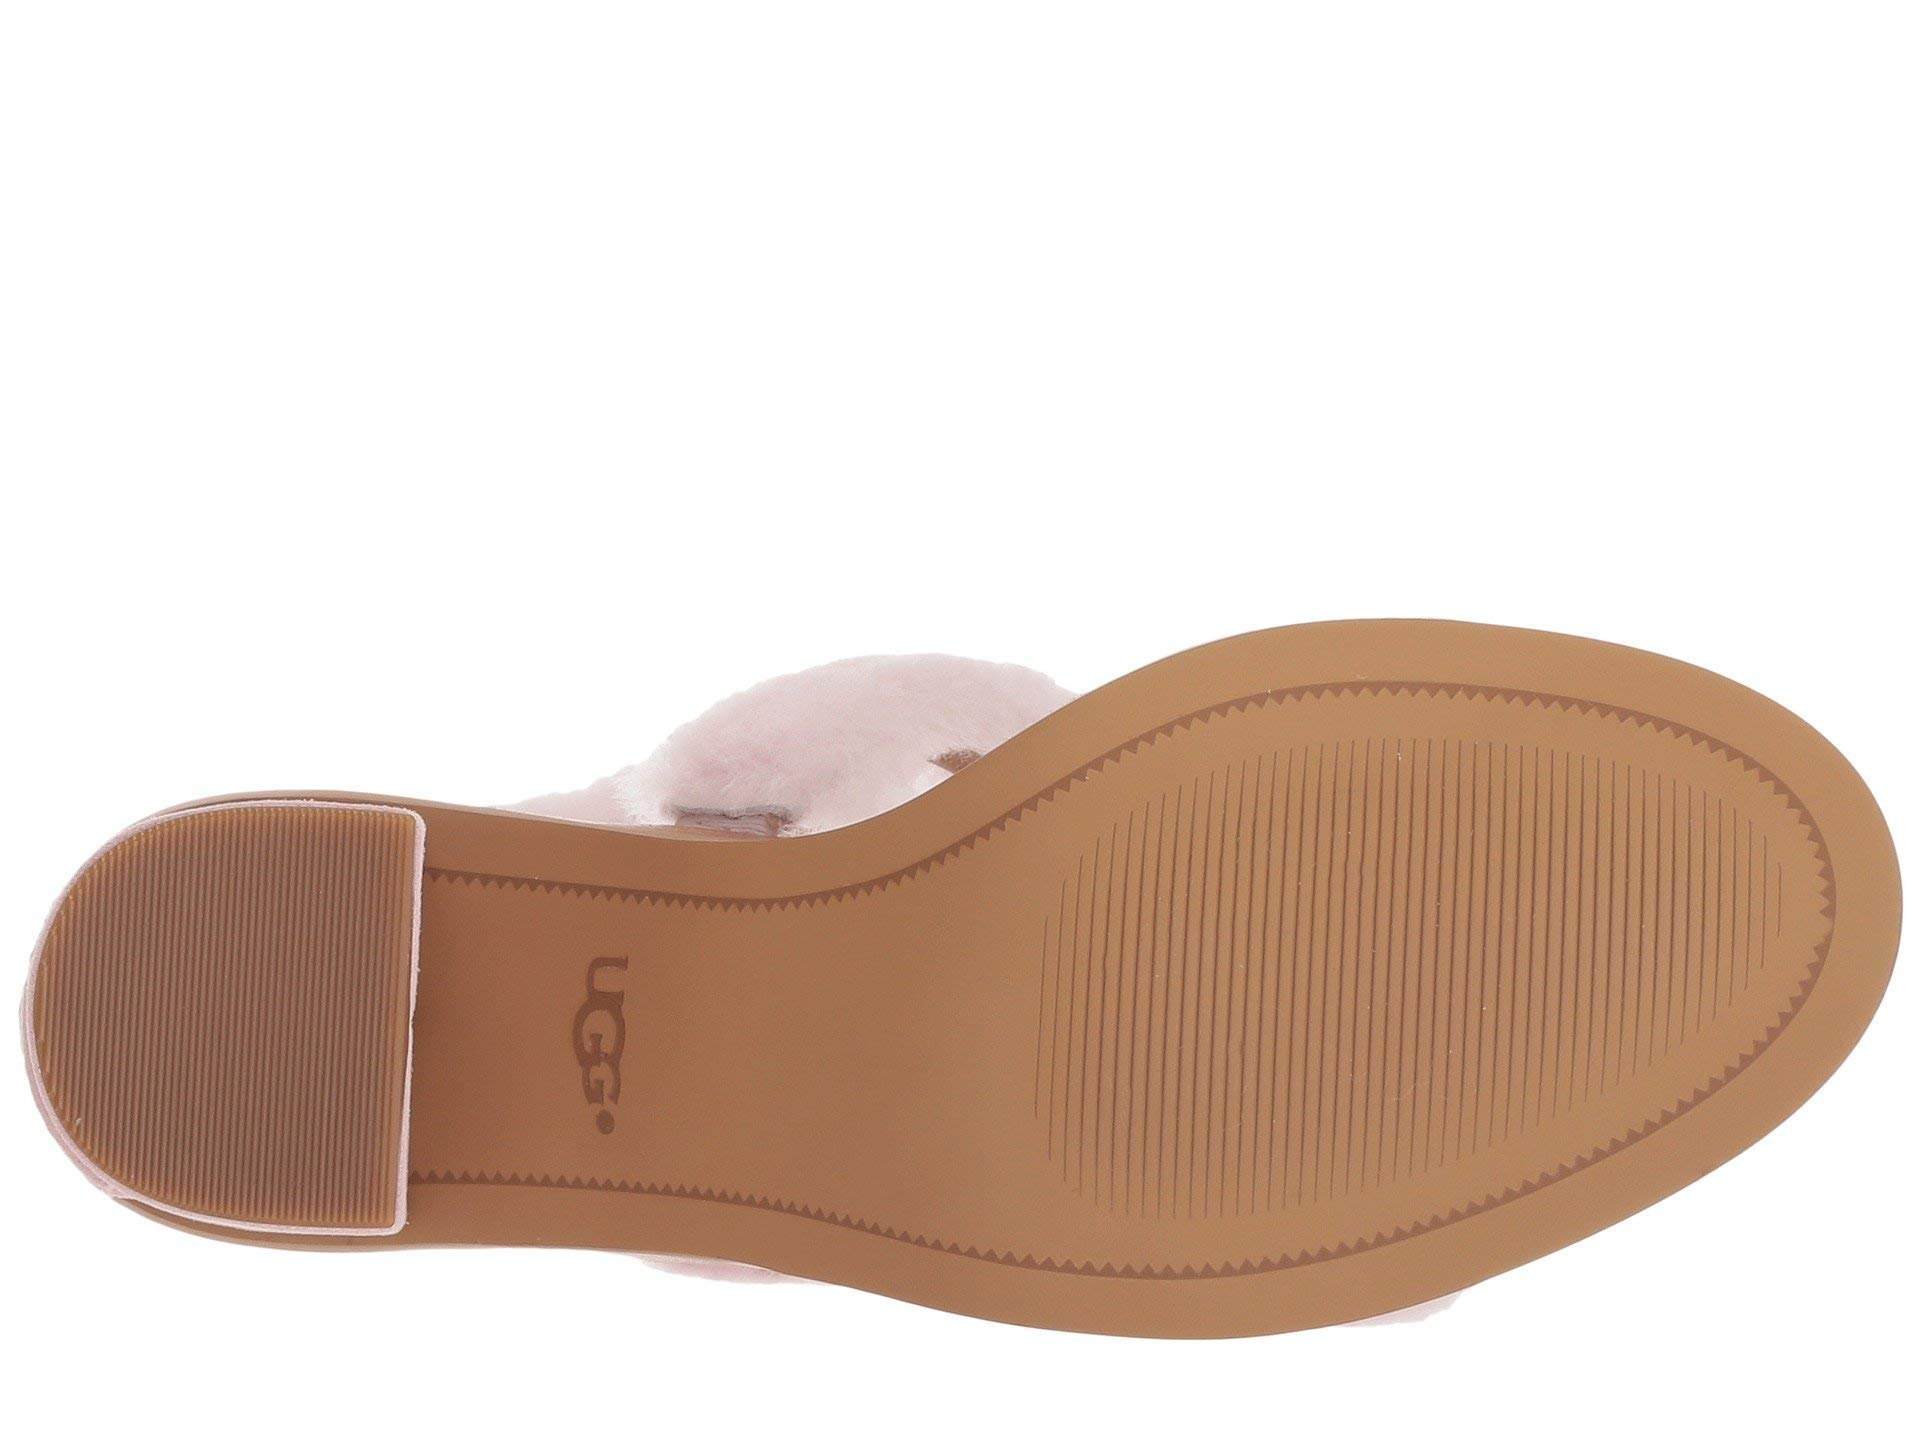circle: (543, 915, 680, 1178)
line: (1150, 790, 1586, 1113), (116, 864, 339, 1171)
text: (543, 915, 680, 1178)
triangle: (1205, 667, 1702, 734)
